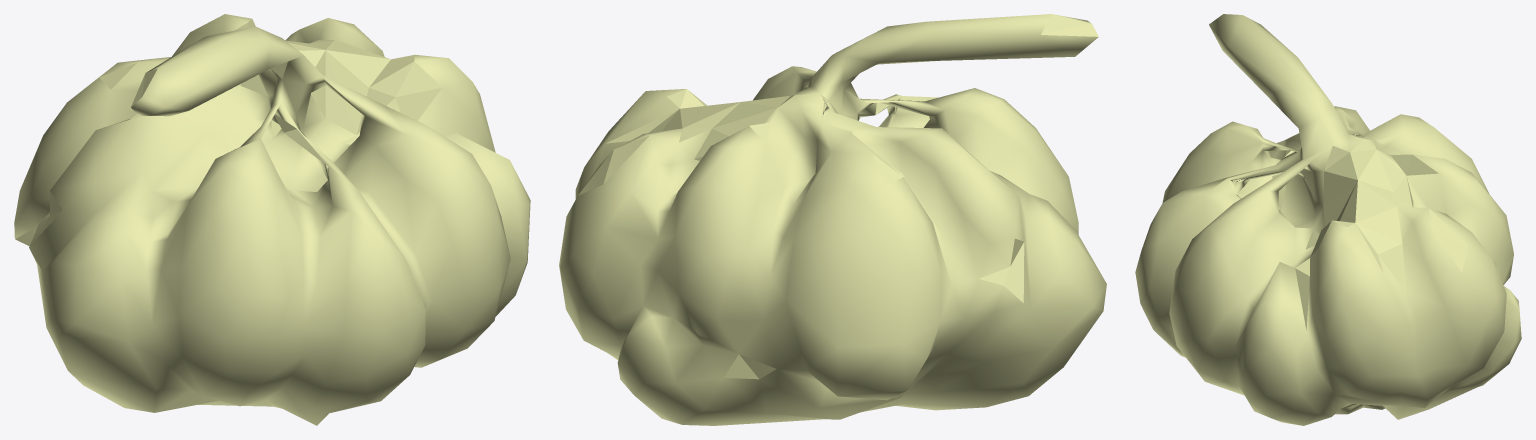
The model's file is alho.fbx.
3 renders of one model, left to right at view 1: azimuth 30°, elevation 25°; view 2: azimuth 150°, elevation 25°; view 3: azimuth 270°, elevation 25°, orthographic. The views are drawn at different scales.
Visible parts, largest first — view 1: 35_garlic1; view 2: 35_garlic1; view 3: 35_garlic1.
Part boxes in pixels (bbox=[...]): 35_garlic1: bbox=[14, 14, 530, 425]; 35_garlic1: bbox=[559, 14, 1106, 425]; 35_garlic1: bbox=[1135, 14, 1521, 425].
Size of the model in its own units: 102 by 78.72 by 91.44.
